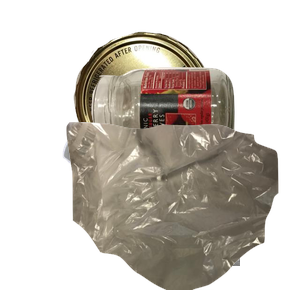glass: (89, 65, 300, 212)
metal: (71, 29, 276, 193)
plastic: (60, 120, 300, 300)
trash: (64, 120, 300, 300)
